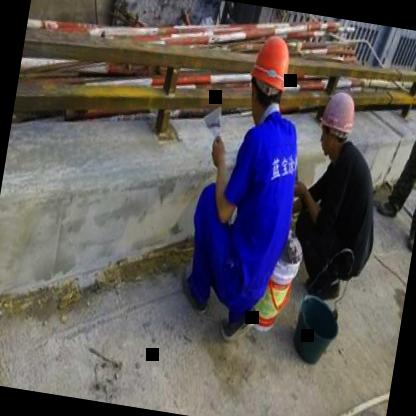helmet: (242, 30, 296, 123), (311, 84, 361, 164)
